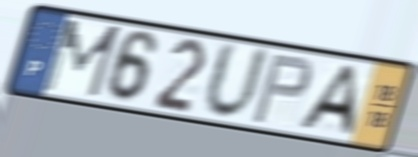2: (151, 36, 212, 117)
6: (104, 28, 160, 107)
A: (293, 63, 359, 139)
M: (39, 16, 124, 101)
P: (248, 53, 315, 127)
U: (201, 39, 273, 124)
